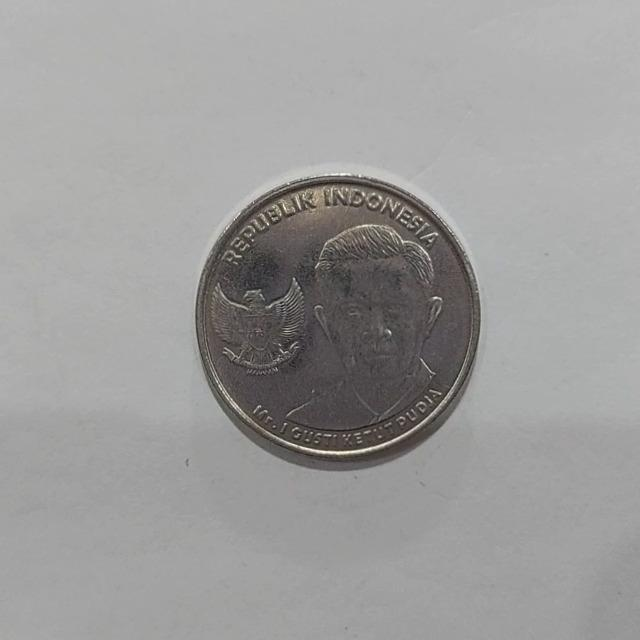Rp100: (193, 169, 482, 467)
